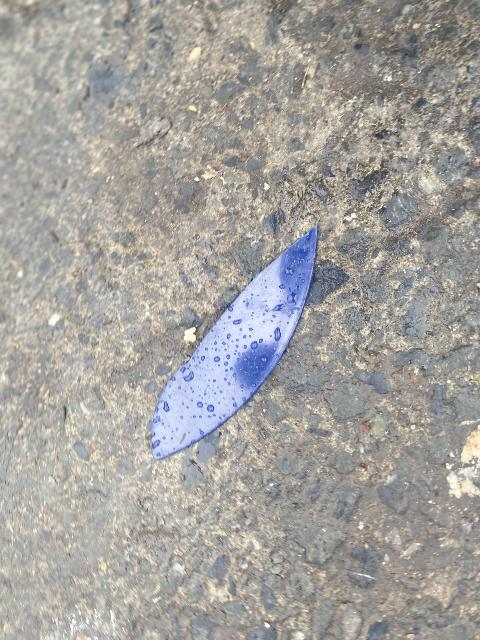Plastik: (143, 219, 340, 457)
